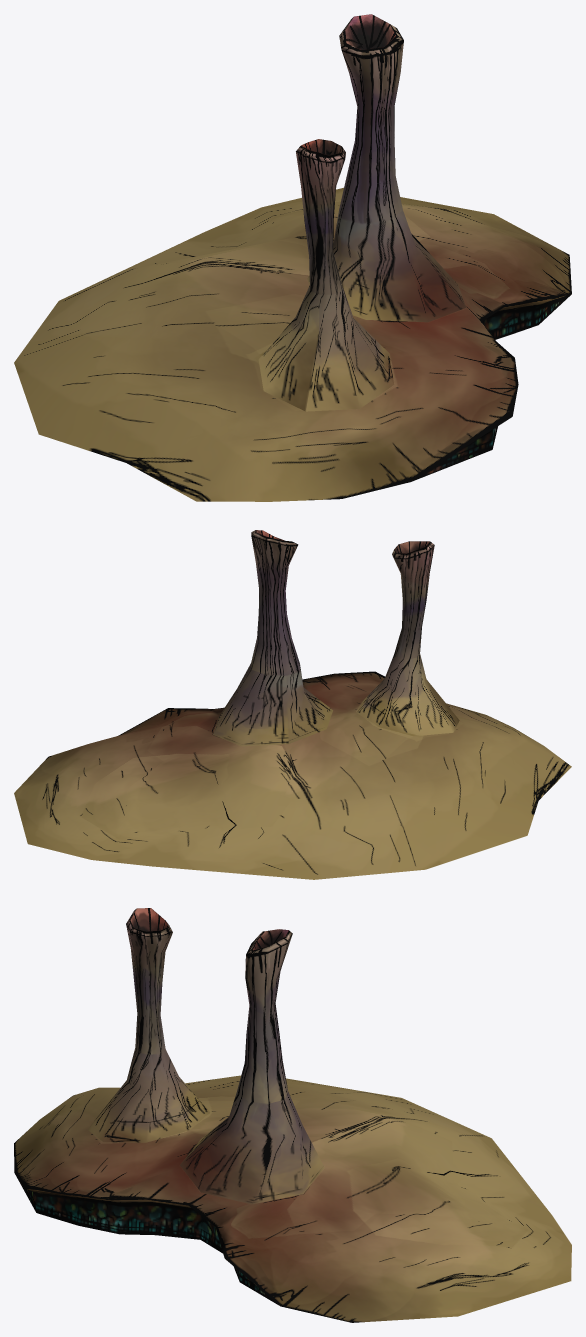
File: smokestack_02.fbx
3 renders of one model, top to bottom at view 1: azimuth 30°, elevation 25°; view 2: azimuth 150°, elevation 25°; view 3: azimuth 270°, elevation 25°, orthographic. The views are drawn at different scales.
Visible parts, largest first — view 1: SmokeStack_02; view 2: SmokeStack_02; view 3: SmokeStack_02.
Boxes of the visible parts, x1,y1,x2,y2 form: SmokeStack_02: (14, 14, 571, 501); SmokeStack_02: (14, 530, 571, 879); SmokeStack_02: (14, 908, 571, 1322).
Bounding box in the file's own units: 34.18 × 18.3 × 32.43.
